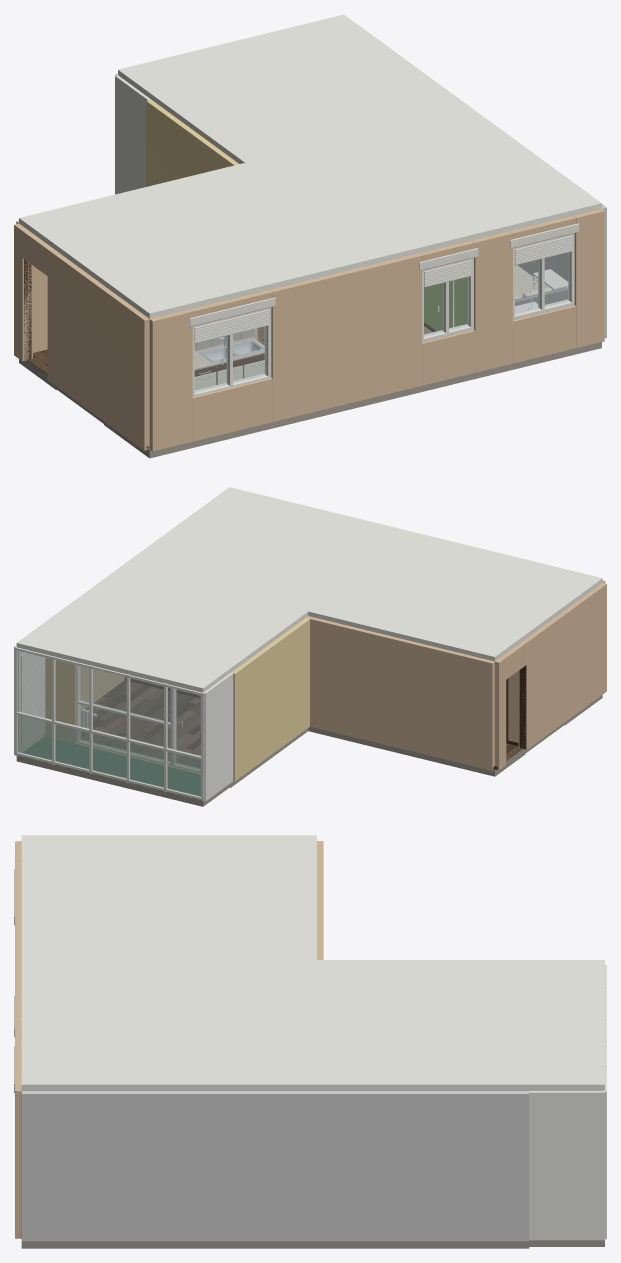
3 renders of one model, top to bottom at view 1: azimuth 30°, elevation 25°; view 2: azimuth 150°, elevation 25°; view 3: azimuth 270°, elevation 25°, orthographic. The views are drawn at different scales.
Parts seen in each view (by area): view 1: Ceiling_North, Ceiling_Living, North_2_0, West_0_0, Ceiling_Balcony, North_0_0, North_4_0, LivingWest_0_0, North_6_0, North_1_0, Balcony_end_West, North_5_0 (+20 smaller); view 2: Ceiling_North, HallSouth_0_0, Ceiling_Living, West_0_0, LivingWest_0_0, Ceiling_Balcony, LivingGlass_pane6.329999999999999, Balcony_end_West, Balcony_green_cover, LivingSouth_2_0, Balcony_upper_glass_1, Balcony_upper_glass_3 (+24 smaller); view 3: East_0_0, Ceiling_North, Ceiling_Living, Balcony_end_East, Ceiling_Balcony, Living_slab, UnverifiedRoom_slab, North_6_0, UnverifiedRoomEntry_slab, HallSouth_0_0, North_2_0.
Boxes of the visible parts, x1=… form: Ceiling_North: x1=19, y1=107, x2=601, y2=318; Ceiling_Living: x1=151, y1=39, x2=470, y2=163; North_2_0: x1=270, y1=253, x2=421, y2=422; West_0_0: x1=47, y1=248, x2=149, y2=450; Ceiling_Balcony: x1=118, y1=14, x2=376, y2=98; North_0_0: x1=149, y1=309, x2=192, y2=451; North_4_0: x1=472, y1=231, x2=512, y2=372; LivingWest_0_0: x1=146, y1=99, x2=239, y2=186; North_6_0: x1=573, y1=208, x2=604, y2=348; North_1_0: x1=192, y1=378, x2=272, y2=441; Balcony_end_West: x1=115, y1=75, x2=150, y2=194; North_5_0: x1=513, y1=305, x2=575, y2=363; Ceiling_North: x1=122, y1=487, x2=602, y2=661; HallSouth_0_0: x1=306, y1=616, x2=494, y2=770; Ceiling_Living: x1=44, y1=566, x2=308, y2=672; West_0_0: x1=518, y1=583, x2=606, y2=749; LivingWest_0_0: x1=231, y1=617, x2=309, y2=781; Ceiling_Balcony: x1=16, y1=622, x2=230, y2=692; LivingGlass_pane6.329999999999999: x1=80, y1=666, x2=170, y2=747; Balcony_end_West: x1=200, y1=673, x2=233, y2=801; Balcony_green_cover: x1=23, y1=737, x2=200, y2=799; LivingSouth_2_0: x1=44, y1=658, x2=76, y2=743; Balcony_upper_glass_1: x1=130, y1=678, x2=163, y2=747; Balcony_upper_glass_3: x1=55, y1=660, x2=88, y2=728; East_0_0: x1=21, y1=1091, x2=529, y2=1241; Ceiling_North: x1=21, y1=835, x2=316, y2=1090; Ceiling_Living: x1=317, y1=960, x2=529, y2=1090; Balcony_end_East: x1=529, y1=1091, x2=604, y2=1240; Ceiling_Balcony: x1=529, y1=960, x2=604, y2=1090; Living_slab: x1=317, y1=1241, x2=529, y2=1248; UnverifiedRoom_slab: x1=21, y1=1241, x2=210, y2=1248; North_6_0: x1=15, y1=1075, x2=21, y2=1238; UnverifiedRoomEntry_slab: x1=211, y1=1241, x2=316, y2=1248; HallSouth_0_0: x1=317, y1=841, x2=323, y2=959; North_2_0: x1=15, y1=907, x2=21, y2=990.
Bounding box in the file's own units: 9.82 × 2.94 × 9.64.
Materials: 53 (14 with a texture image).
